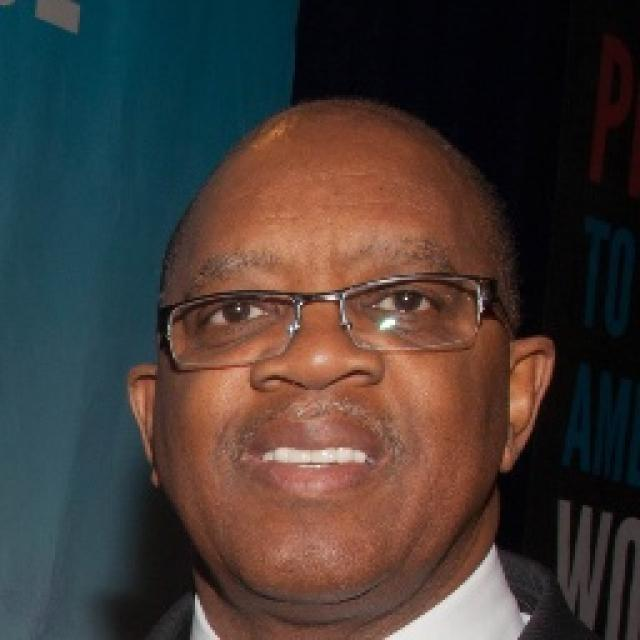earlobe: (501, 425, 524, 474)
eye: (198, 300, 270, 332), (368, 290, 441, 319)
nose: (247, 360, 384, 429)
wholeear: (501, 336, 556, 474), (126, 364, 161, 488)
